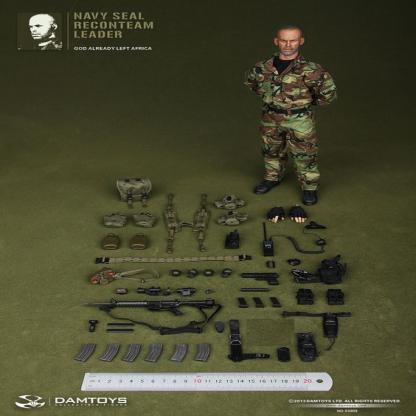Grenade: (186, 267, 199, 279), (221, 267, 233, 279), (170, 267, 180, 280), (202, 268, 216, 276)
Gun: (81, 298, 217, 318)
Pistol: (239, 271, 282, 287)
